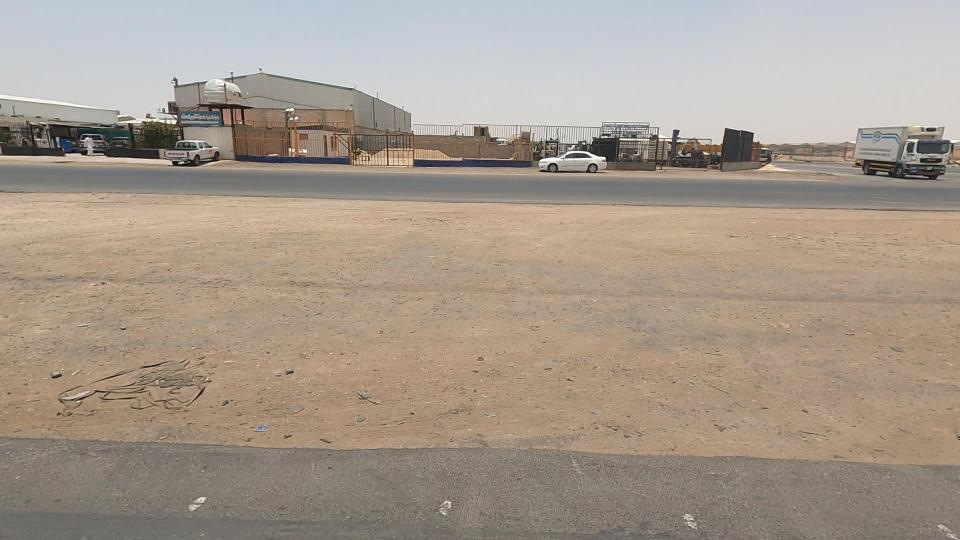CONSTRUCTION_ROAD: (0, 101, 783, 495), (432, 115, 960, 496)
GARBAGE: (0, 311, 287, 447)
